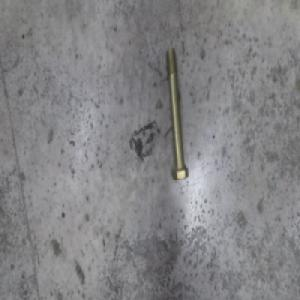Bolt: (163, 41, 189, 173)
